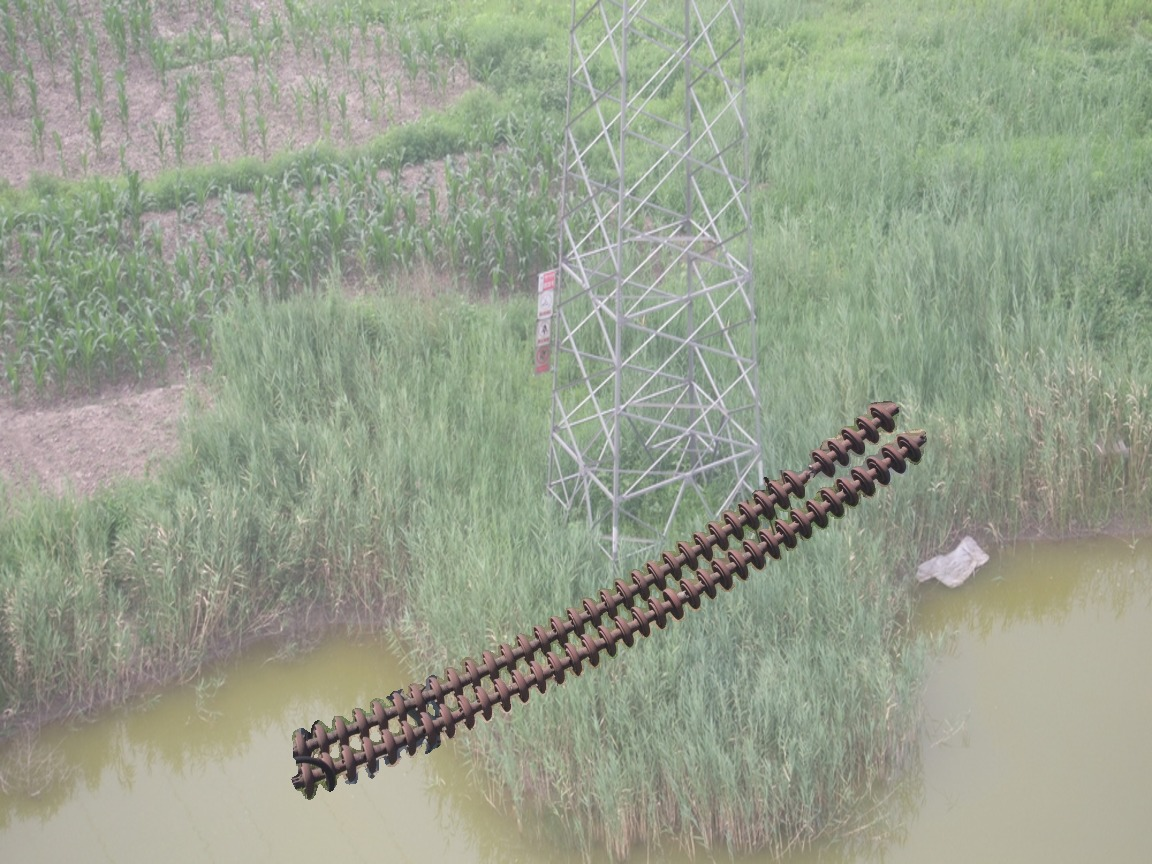defect: (776, 447, 836, 499)
